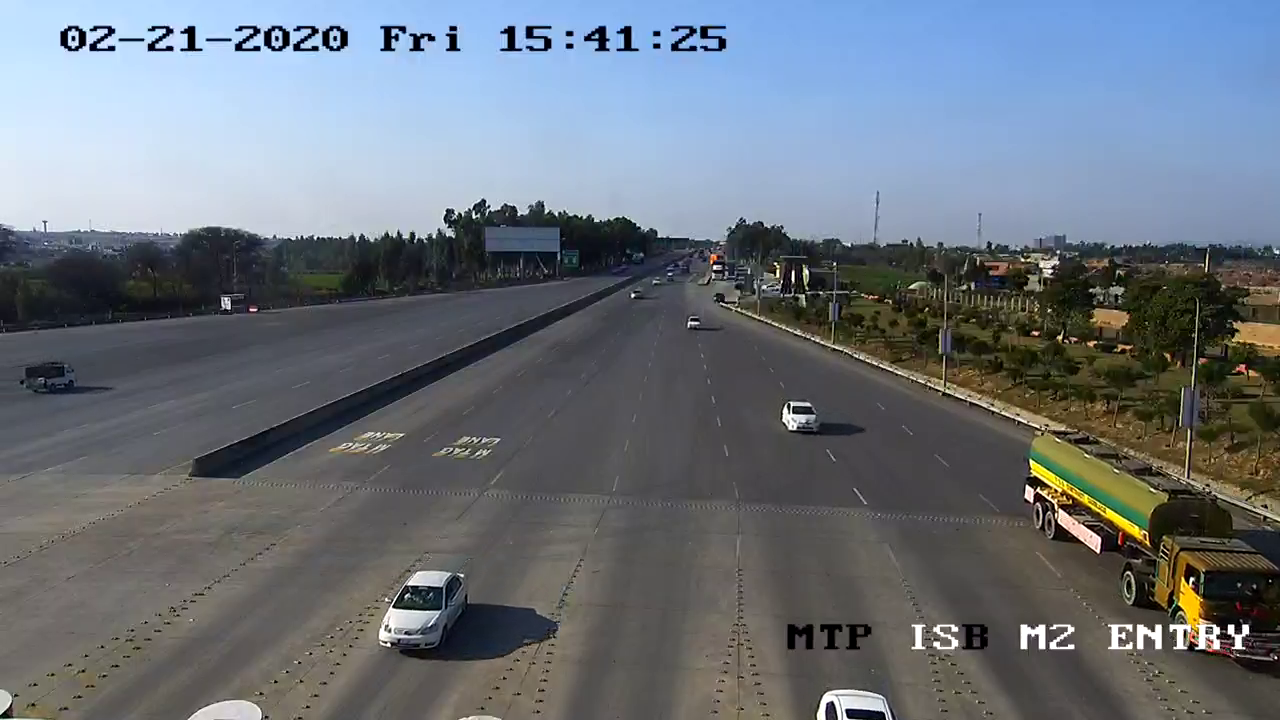f1: (371, 562, 474, 661), (769, 384, 829, 449)
f6: (1011, 400, 1280, 624)
